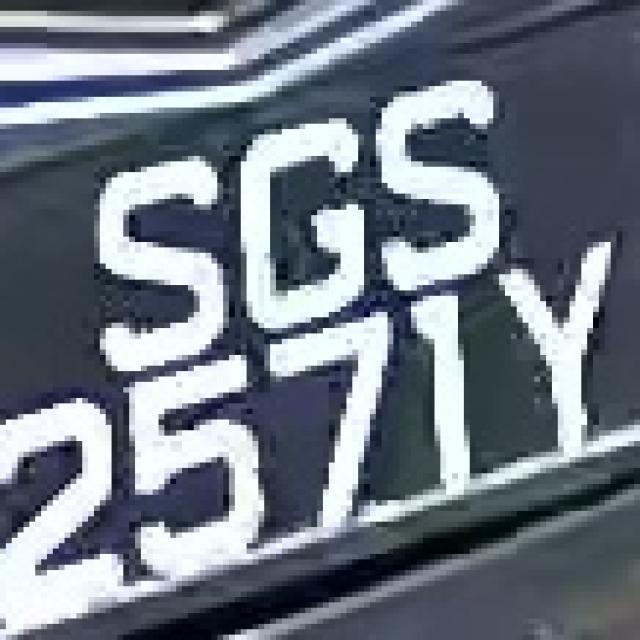1: (393, 280, 488, 516)
2: (12, 382, 147, 629)
5: (100, 377, 294, 586)
7: (247, 296, 411, 538)
G: (217, 113, 364, 328)
S: (76, 140, 229, 371), (358, 92, 517, 301)
Y: (476, 247, 622, 468)
